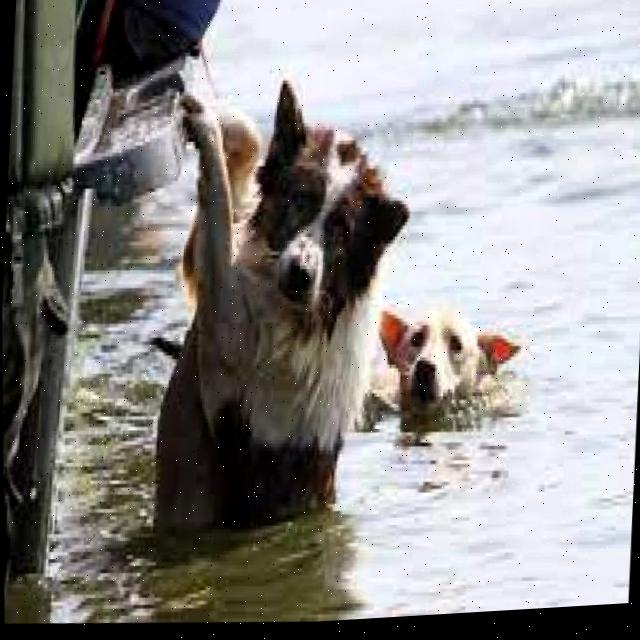dog: (137, 60, 420, 551), (369, 285, 525, 431)
